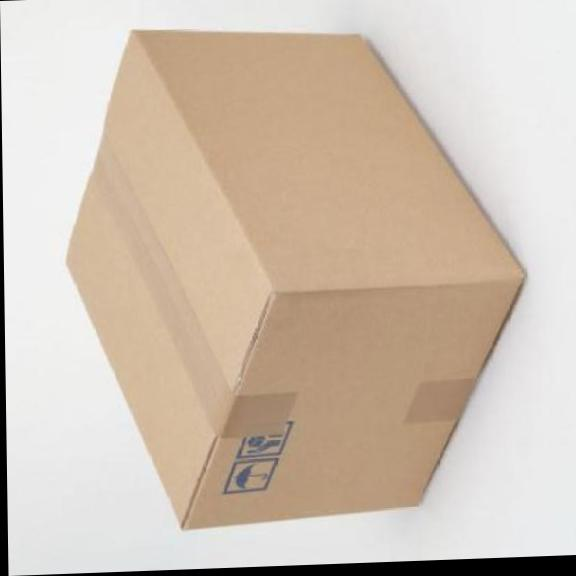Kertas: (66, 30, 523, 528)
